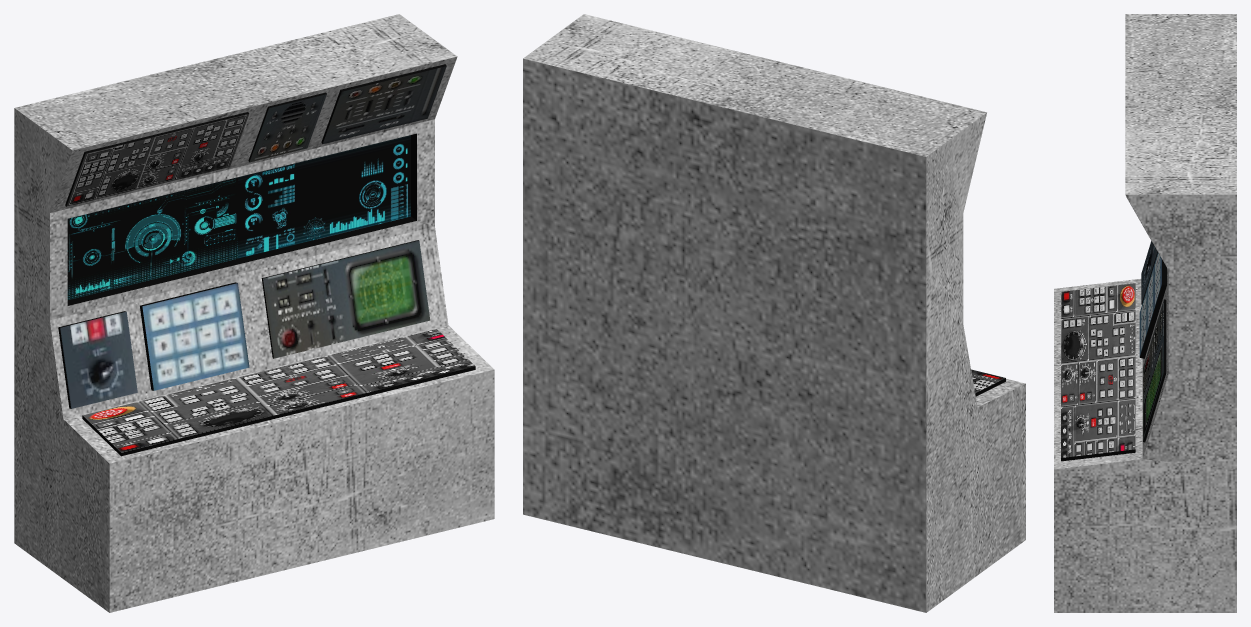
Rendered from controlpanel.gltf.
3 views of the same model, side by side, from view 1: azimuth 30°, elevation 25°; view 2: azimuth 150°, elevation 25°; view 3: azimuth 270°, elevation 25° (orthographic). The views are drawn at different scales.
Parts seen in each view (by area): view 1: Cube; view 2: Cube; view 3: Cube.
Part boxes in pixels (bbox=[...]): Cube: bbox=[14, 14, 494, 612]; Cube: bbox=[523, 14, 1025, 612]; Cube: bbox=[1054, 14, 1236, 612].
Bounding box in the file's own units: 4.67 × 5.05 × 2.
1 material, 1 textured.
